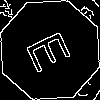E: (25, 25, 81, 75)
